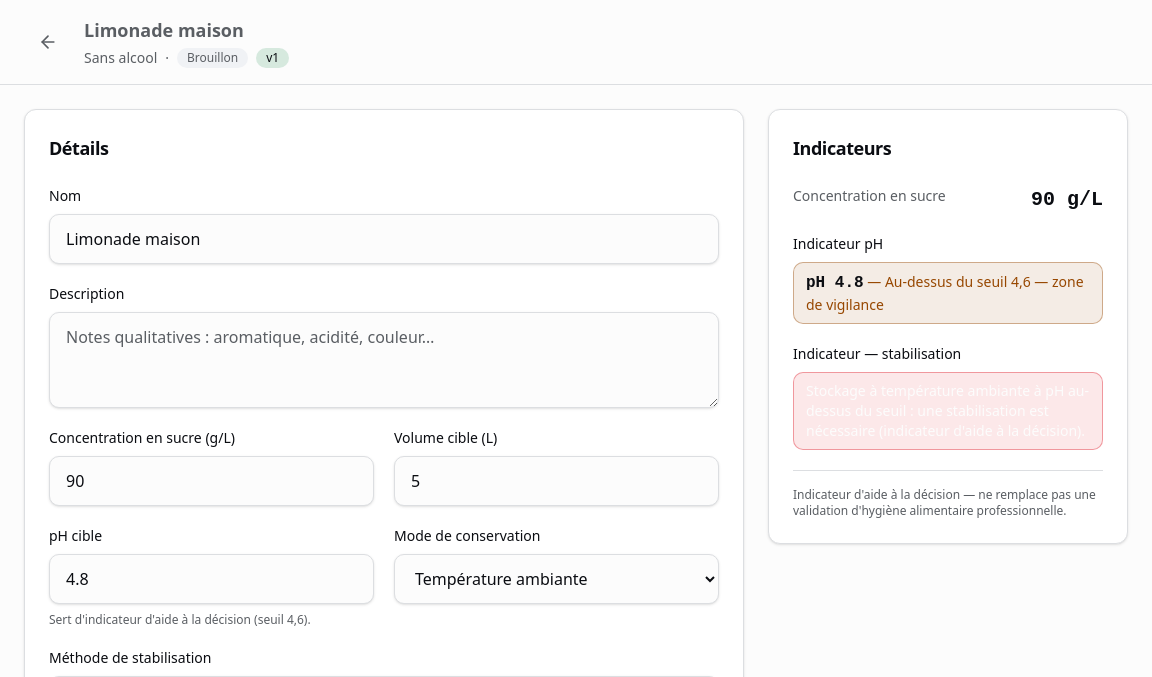
éditeur SOFT — indicateurs sécurité (ADR-11) › le statut pH suit le seuil 4,6 du core (acide sous le seuil)
Replace the text in the number field labelled "pH cible" with "4.2": coordinates (212, 579) [49,554,374,604]
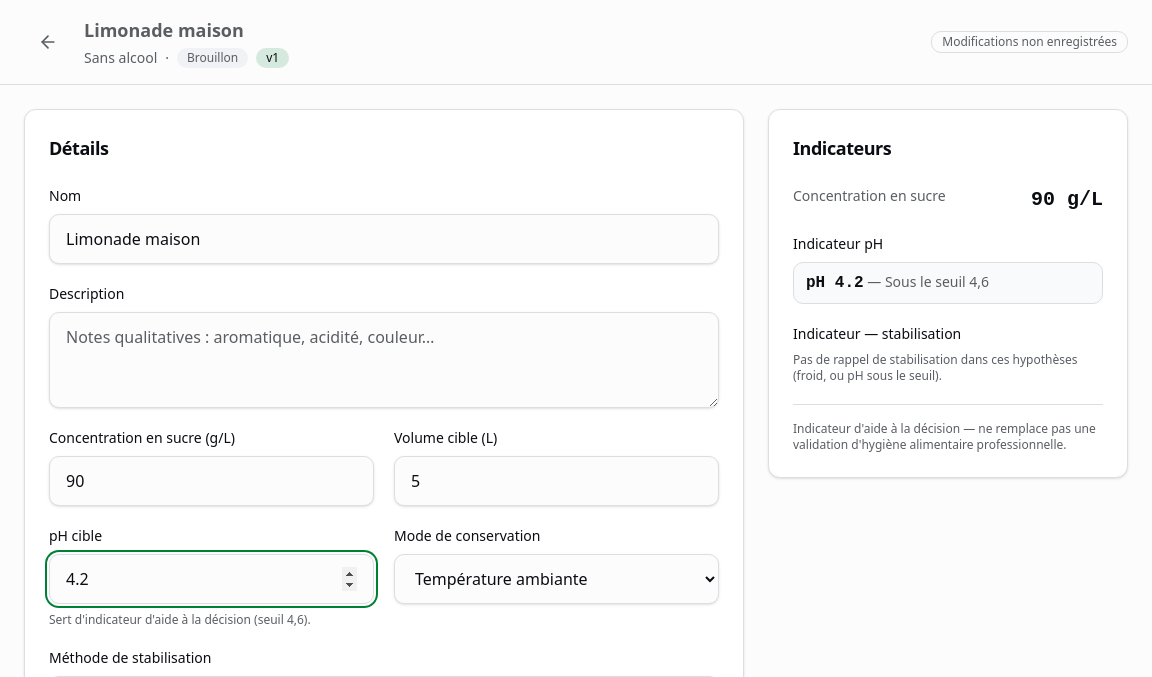
Expected: the text with test id "soft-ph-status" shows "Sous le seuil", [885,272,989,291]
